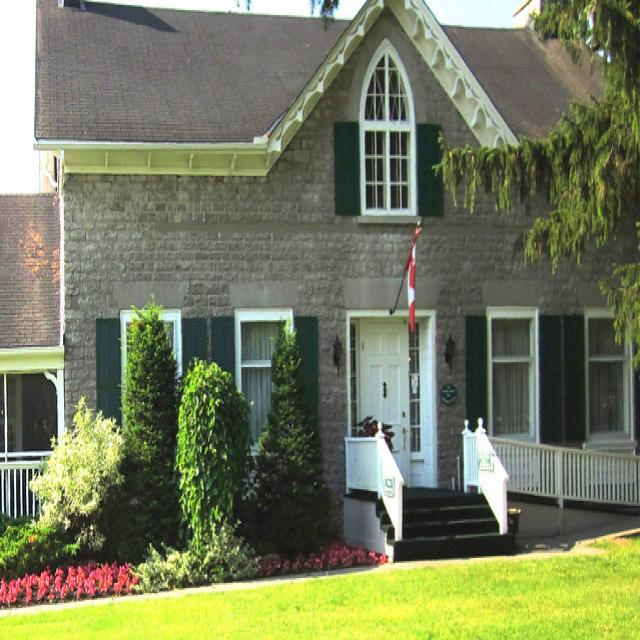Normal_building: (31, 0, 636, 590)
